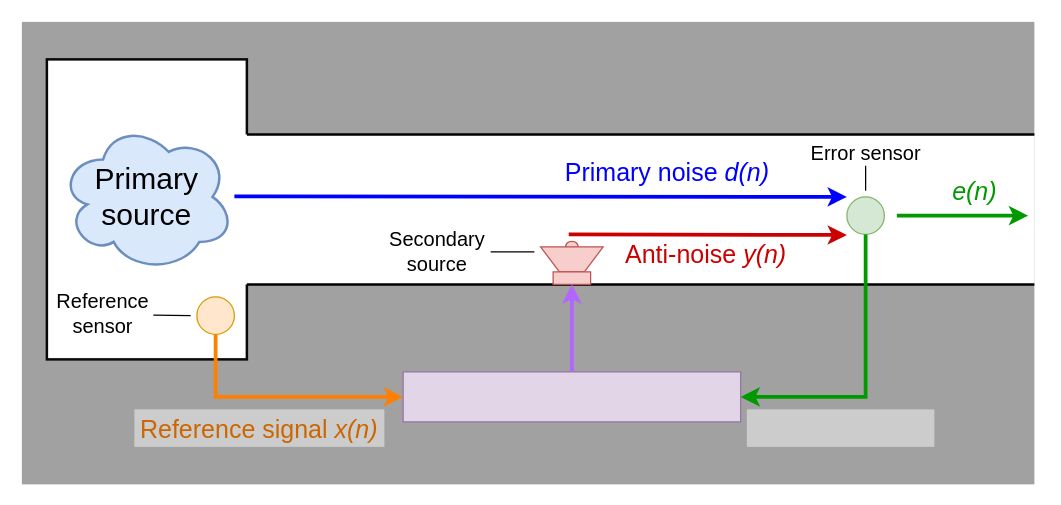
The diagram is 1061 pixels wide and 505 high, and some of its shapes have lost their labels. The centre of each missing label's shape, as x and y in pixels:
"Controller" belongs at point 571,396.
"Error signal e(n)" belongs at point 840,427.
